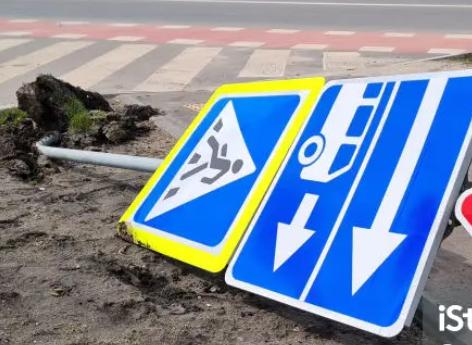road_sign: (226, 71, 472, 338), (119, 77, 323, 271)
